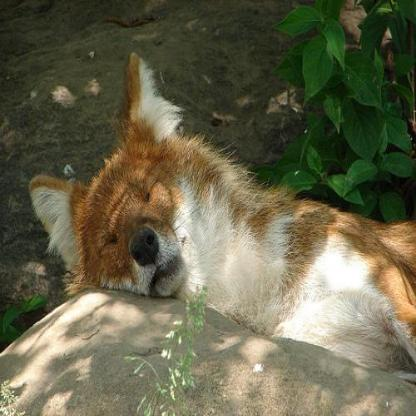dhole: (27, 50, 414, 374)
